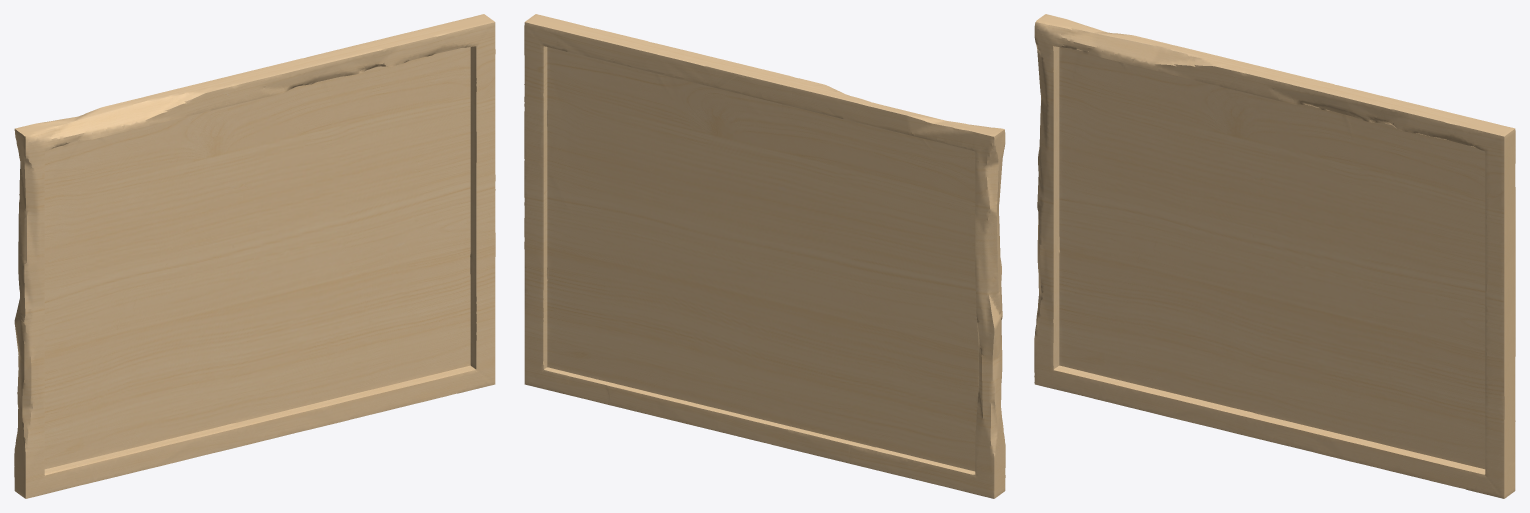
The picture shows the model from 3 angles, left to right: view 1: azimuth 30°, elevation 25°; view 2: azimuth 150°, elevation 25°; view 3: azimuth 330°, elevation 25°; orthographic projection.
Size of the model in its own units: 1.9 by 1.4 by 0.0805.
Materials: 1 (1 with a texture image).
